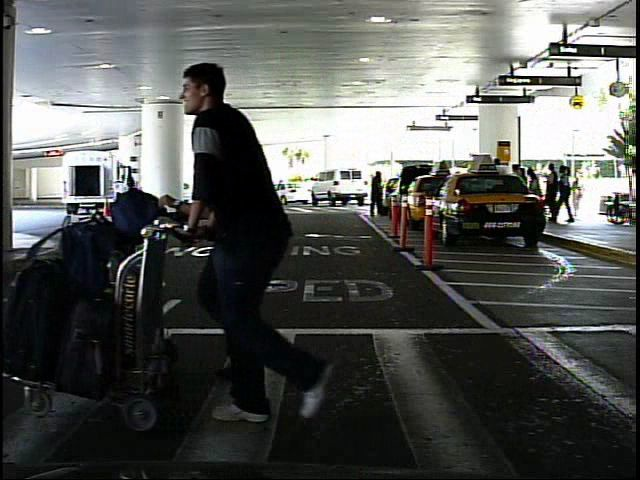person: (178, 45, 337, 424), (368, 167, 389, 223), (112, 170, 130, 217), (571, 172, 586, 219)
